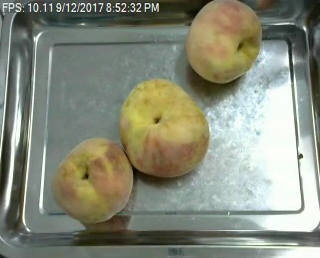Peach: (119, 77, 209, 178), (52, 136, 133, 225), (185, 0, 262, 84)
